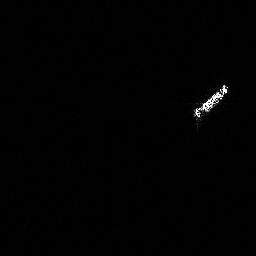ship: (190, 83, 232, 123)
